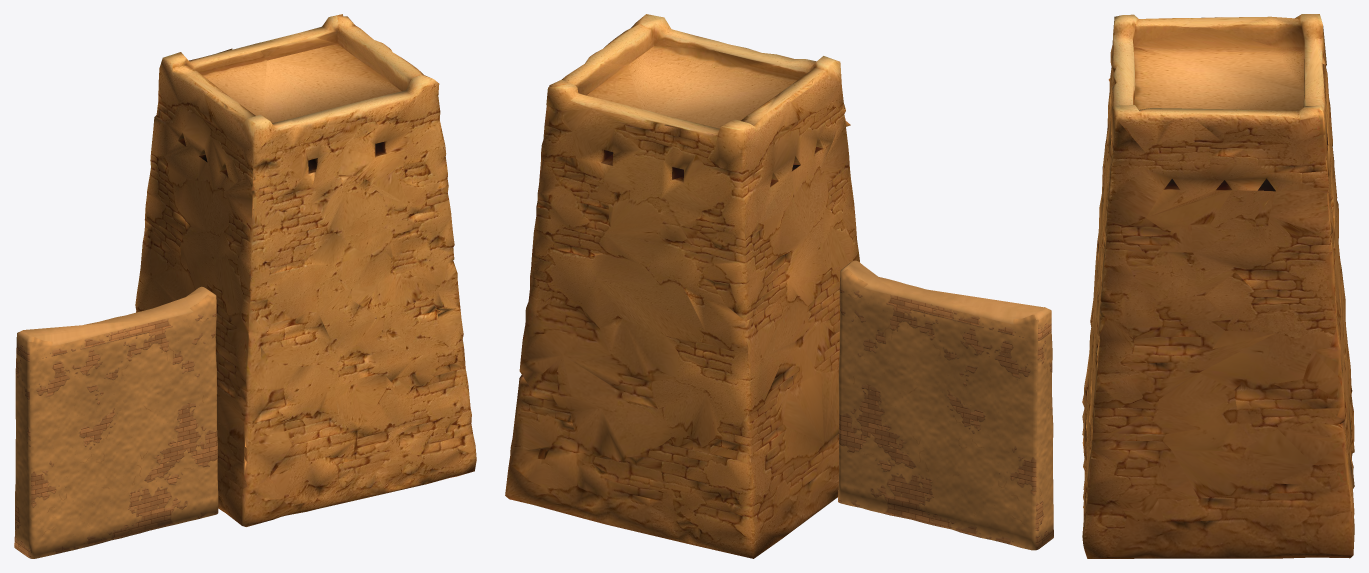
File: house_preview.glb
3 renders of one model, left to right at view 1: azimuth 30°, elevation 25°; view 2: azimuth 150°, elevation 25°; view 3: azimuth 270°, elevation 25°, orthographic. The views are drawn at different scales.
Parts seen in each view (by area): view 1: Tower.001, wall.001; view 2: Tower.001, wall.001; view 3: Tower.001.
Boxes of the visible parts, bbox=[...] form: Tower.001: bbox=[135, 14, 476, 526]; wall.001: bbox=[14, 286, 218, 558]; Tower.001: bbox=[505, 14, 859, 558]; wall.001: bbox=[838, 260, 1053, 550]; Tower.001: bbox=[1082, 14, 1354, 558].
Size of what is drawn, in the model's own units: 9.05 by 8.01 by 4.53.
Materials: 3 (3 with a texture image).
